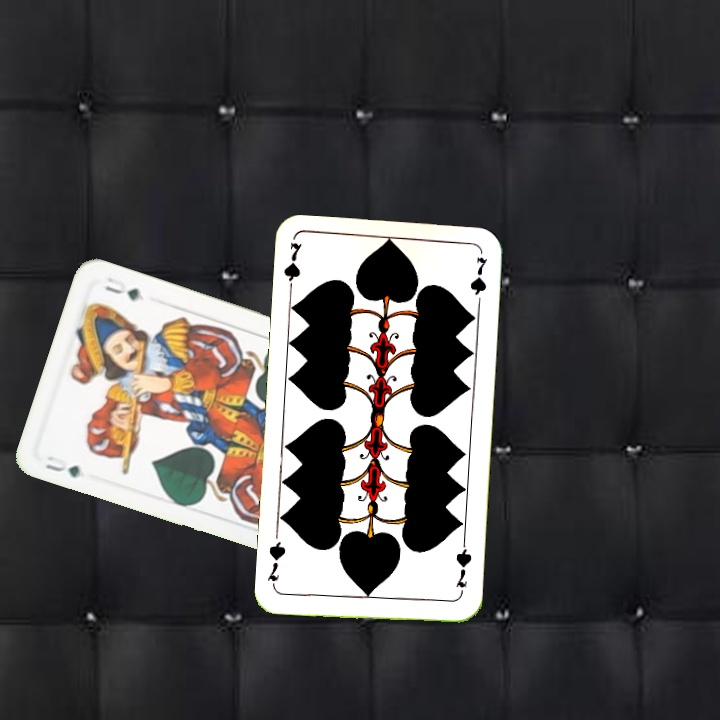G7: (280, 239, 305, 298), (451, 540, 475, 599)
GU: (41, 452, 84, 480)
